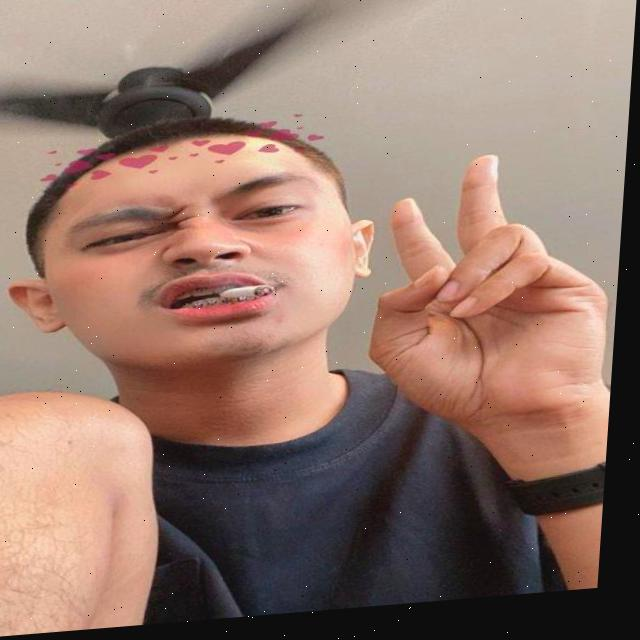cigarette: (219, 287, 280, 304)
